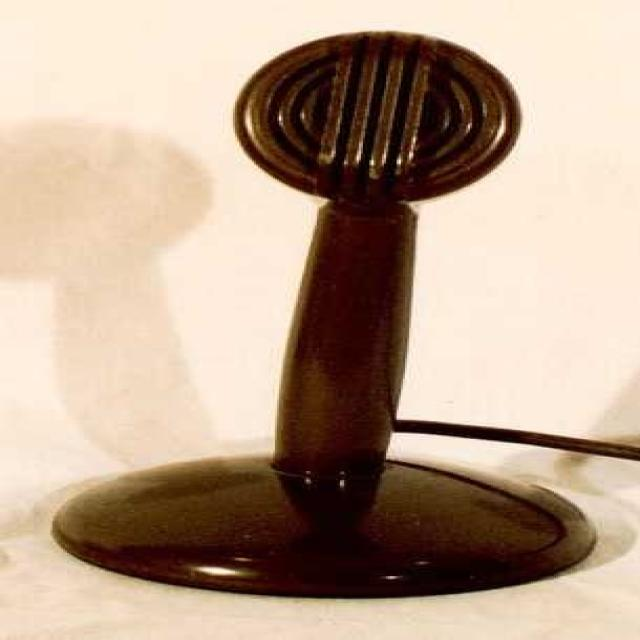microphone: (213, 34, 532, 526)
